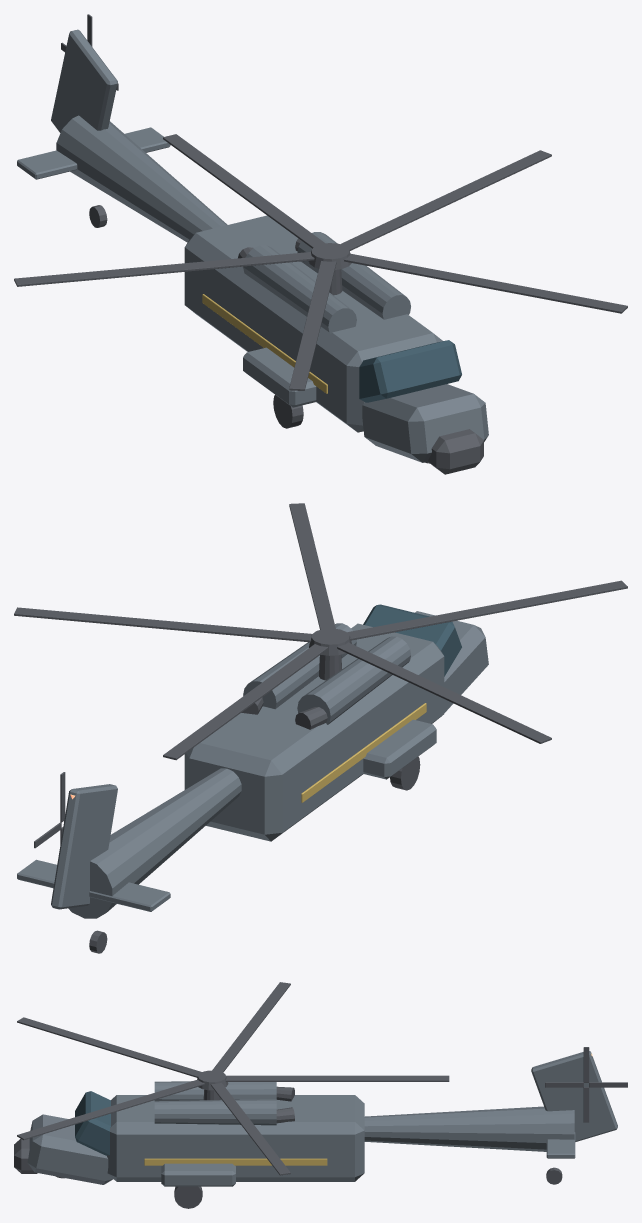
File: ship_z20j_heli.glb
The picture shows the model from 3 angles, top to bottom: view 1: azimuth 30°, elevation 25°; view 2: azimuth 150°, elevation 25°; view 3: azimuth 270°, elevation 25°; orthographic projection. The views are drawn at different scales.
Visible parts, largest first — view 1: Fuselage, TailBoom, NoseCone, TailFin, CockpitGls, EnginePod_-0.68, Blade_4, Blade_2, EnginePod_0.68, Blade_1, Blade_0, Sponson_-0.68 (+6 smaller); view 2: Fuselage, TailBoom, TailFin, EnginePod_-0.68, Blade_1, Blade_3, Blade_4, Sponson_-0.68, Blade_0, NoseCone, Blade_2, CockpitGls (+5 smaller); view 3: Fuselage, TailBoom, TailFin, NoseCone, EnginePod_0.68, Sponson_0.68, CockpitGls, Blade_0, EnginePod_-0.68, Blade_2, Blade_3, Blade_1 (+6 smaller).
Boxes of the visible parts, bbox=[...] form: Fuselage: bbox=[184, 215, 442, 432]; TailBoom: bbox=[56, 115, 227, 242]; NoseCone: bbox=[362, 384, 488, 462]; TailFin: bbox=[51, 29, 117, 132]; CockpitGls: bbox=[359, 340, 461, 402]; EnginePod_-0.68: bbox=[243, 245, 356, 333]; Blade_4: bbox=[14, 252, 314, 286]; Blade_2: bbox=[344, 253, 627, 313]; EnginePod_0.68: bbox=[297, 232, 410, 319]; Blade_1: bbox=[340, 150, 551, 250]; Blade_0: bbox=[163, 134, 325, 248]; Sponson_-0.68: bbox=[243, 347, 316, 407]; Fuselage: bbox=[184, 623, 444, 841]; TailBoom: bbox=[68, 768, 241, 918]; TailFin: bbox=[51, 784, 117, 909]; EnginePod_-0.68: bbox=[297, 636, 410, 724]; Blade_1: bbox=[14, 607, 311, 642]; Blade_3: bbox=[347, 580, 627, 640]; Blade_4: bbox=[337, 642, 551, 743]; Sponson_-0.68: bbox=[363, 719, 436, 779]; Blade_0: bbox=[163, 644, 328, 760]; NoseCone: bbox=[415, 611, 488, 716]; Blade_2: bbox=[289, 503, 335, 629]; CockpitGls: bbox=[363, 604, 461, 676]; Fuselage: bbox=[107, 1095, 364, 1181]; TailBoom: bbox=[364, 1106, 574, 1151]; TailFin: bbox=[531, 1051, 617, 1141]; NoseCone: bbox=[27, 1114, 113, 1184]; EnginePod_0.68: bbox=[154, 1099, 276, 1125]; Sponson_0.68: bbox=[161, 1163, 235, 1186]; CockpitGls: bbox=[75, 1091, 110, 1155]; Blade_0: bbox=[225, 1075, 449, 1081]; EnginePod_-0.68: bbox=[154, 1081, 276, 1101]; Blade_2: bbox=[17, 1079, 204, 1140]; Blade_3: bbox=[17, 1017, 201, 1077]; Blade_1: bbox=[210, 1083, 290, 1175].
Bounding box in the file's own units: 13.42 × 4.67 × 18.12.
